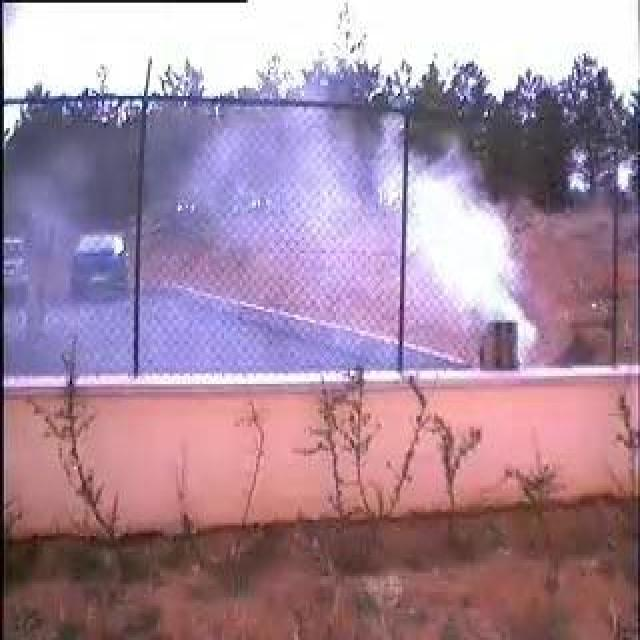Smoke: (237, 108, 533, 364)
